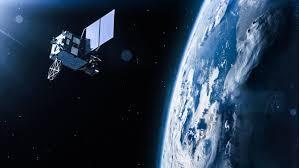body: (48, 29, 106, 79)
solar: (83, 7, 118, 56)
